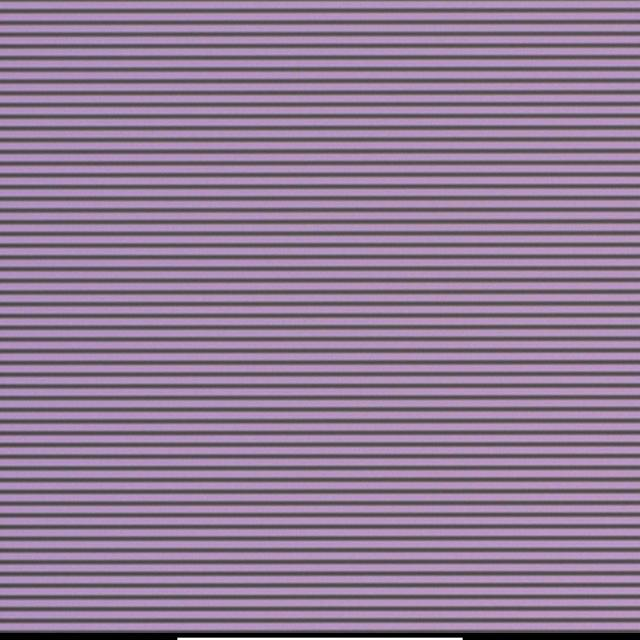nonvisual: (304, 318, 314, 328)
